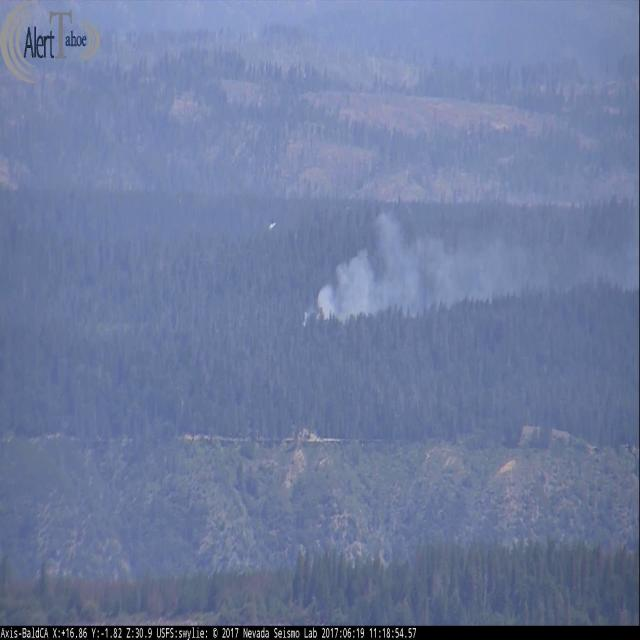smoke: (298, 178, 633, 335)
